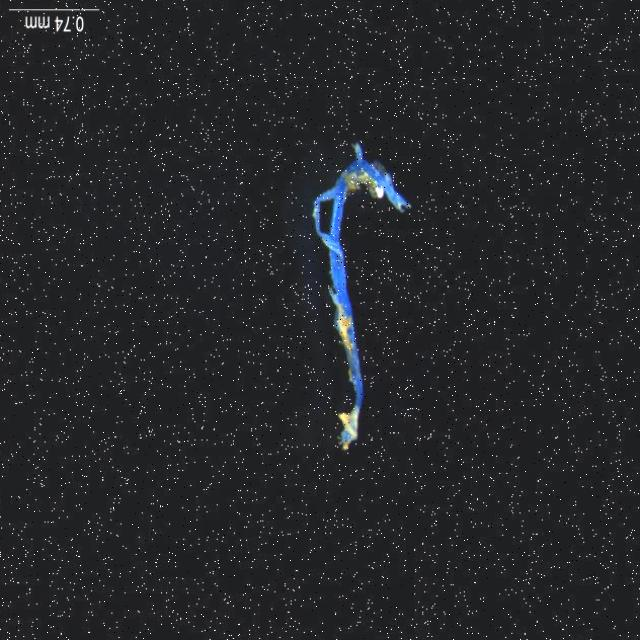Fibre: (298, 160, 417, 454)
